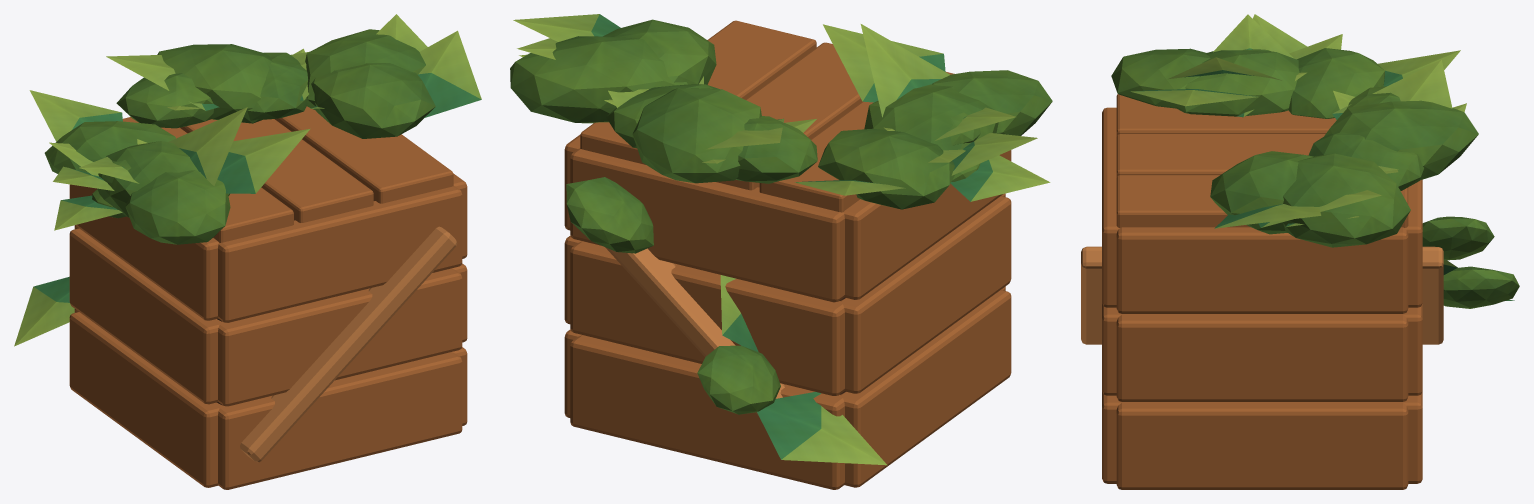
File: kit_crate.glb
The picture shows the model from 3 angles, left to right: view 1: azimuth 30°, elevation 25°; view 2: azimuth 150°, elevation 25°; view 3: azimuth 270°, elevation 25°; orthographic projection. The views are drawn at different scales.
Parts seen in each view (by area): view 1: Crate plank.008, Crate plank, Crate plank.004, Crate plank.005, Crate plank.001, Crate diagonal, Crate lid.002, Woodland shared moss cushion.034, Crate plank.009, Crate lid.001, Woodland shared moss cushion.029, Woodland shared moss cushion.027 (+19 smaller); view 2: Crate plank.010, Crate plank.006, Crate plank.002, Crate plank.005, Crate plank.001, Woodland shared moss cushion.036, Woodland shared moss cushion.027, Crate plank.009, Woodland shared moss cushion.026, Crate lid.002, Crate lid.001, Woodland shared curved ivy leaf.076 (+21 smaller); view 3: Crate plank.007, Crate plank.003, Crate plank.011, Woodland shared moss cushion.036, Crate lid.001, Woodland shared moss cushion.027, Crate lid.002, Woodland shared moss cushion.030, Crate lid, Woodland shared moss cushion.026, Woodland shared moss cushion.034, Woodland shared moss cushion.029 (+21 smaller).
Boxes of the visible parts, x1,y1,x2,y2 form: Crate plank.008: (218,186,462,322); Crate plank: (218,352,462,489); Crate plank.004: (218,268,462,406); Crate plank.005: (69,228,222,404); Crate plank.001: (69,312,221,487); Crate diagonal: (240,226,457,462); Crate lid.002: (275,106,453,203); Woodland shared moss cushion.034: (311,63,435,138); Crate plank.009: (69,184,218,320); Crate lid.001: (180,119,373,222); Woodland shared moss cushion.029: (125,170,230,244); Woodland shared moss cushion.027: (157,44,273,123); Crate plank.010: (570,148,844,302); Crate plank.006: (570,241,844,395); Crate plank.002: (570,335,844,489); Crate plank.005: (840,196,1011,393); Crate plank.001: (840,290,1011,487); Woodland shared moss cushion.036: (510,36,688,123); Woodland shared moss cushion.027: (632,88,761,183); Crate plank.009: (843,150,1011,299); Woodland shared moss cushion.026: (818,128,954,209); Crate lid.002: (580,20,816,164); Crate lid.001: (716,42,862,190); Woodland shared curved ivy leaf.076: (757,392,887,465); Crate plank.007: (1116,314,1408,401); Crate plank.003: (1116,402,1408,489); Crate plank.011: (1116,227,1408,313); Woodland shared moss cushion.036: (1283,153,1410,247); Crate lid.001: (1116,134,1325,177); Woodland shared moss cushion.027: (1324,100,1478,180); Crate lid.002: (1116,175,1408,227); Woodland shared moss cushion.030: (1175,50,1299,116); Crate lid: (1116,94,1336,136); Woodland shared moss cushion.026: (1288,48,1384,118); Woodland shared moss cushion.034: (1210,151,1313,234); Woodland shared moss cushion.029: (1111,48,1210,108).
Size of the model in its own units: 0.8294 by 0.5882 by 0.6775.
6 materials, 3 textured.
